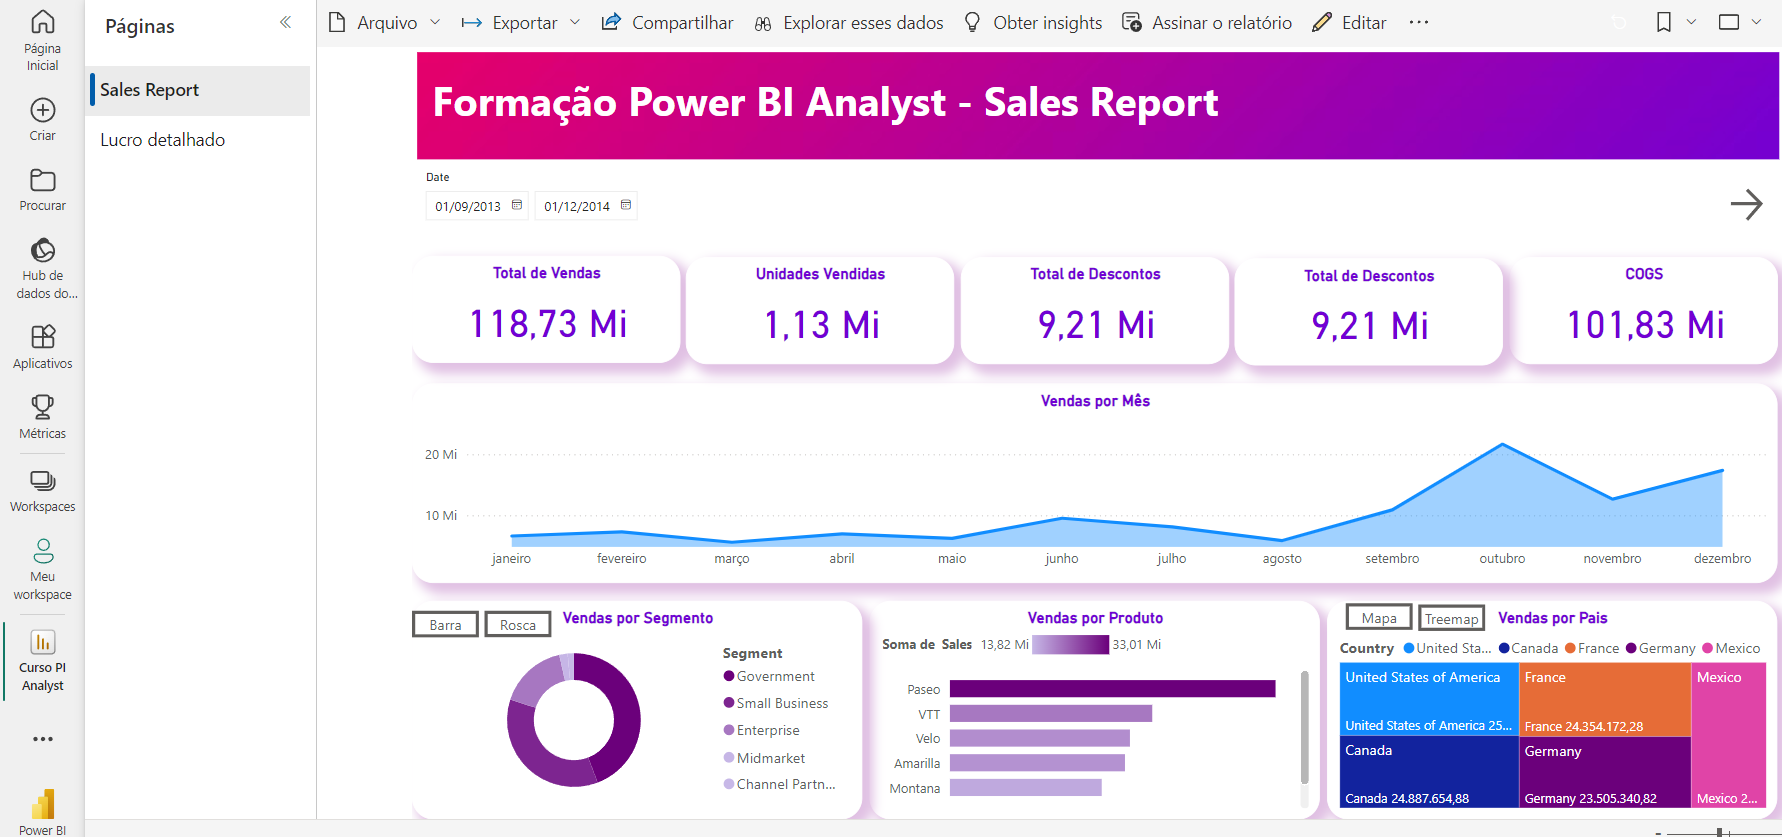

The dashboard page shown, as its layout file describes it:
{"tool":"powerbi","page":{"name":"Página 1","canvas":[1280,720],"ordinal":0},"visuals":[{"type":"group","id":"g1","title":"Titulo PrincipaL","box":[0,0,1280.3,109.8],"z":0},{"type":"group","id":"g2","title":"Grupo 2","box":[0,0,1280.3,109.8],"z":0,"group":"g1"},{"type":"image","box":[0,0,1280.2,109.5],"z":0,"group":"g2"},{"type":"card","title":"COGS","fields":{"Values":["Sum(financials.COGS)"]},"box":[1023.6,196.6,250,100.2],"z":0,"group":"g3"},{"type":"treemap","title":"Vendas por Pais","fields":{"Group":["financials.Country"],"Values":["Sum(financials. Sales)"],"Details":["financials.Country"]},"box":[853.8,516.2,420,203.8],"z":0,"group":"g5"},{"type":"textbox","box":[13.7,19.3,1037.8,63.8],"z":1000,"group":"g2"},{"type":"card","title":"Total de Vendas","fields":{"Values":["Sum(financials. Sales)"]},"box":[0,195.2,250,100.2],"z":1000,"group":"g3"},{"type":"areaChart","title":"Vendas por Mês","fields":{"Y":["Sum(financials. Sales)"],"Category":["financials.Date.Variation.Hierarquia de datas.Mês"]},"box":[0,313.2,1273.4,186.6],"z":1000},{"type":"donutChart","title":"Vendas por Segmento","fields":{"Category":["financials.Segment"],"Y":["Sum(financials. Sales)"]},"box":[0,516.2,420,203.8],"z":1000,"group":"g4"},{"type":"card","title":"Unidades Vendidas","fields":{"Values":["Sum(financials.Units Sold)"]},"box":[255.8,196.6,250,100.2],"z":2000,"group":"g3"},{"type":"clusteredBarChart","title":"Vendas por Produto","fields":{"Y":["Sum(financials. Sales)"],"Category":["financials.Product"]},"box":[426.9,516.2,420,203.8],"z":2000},{"type":"actionButton","title":"Mapa","box":[870.8,518.9,62.5,25],"z":2000,"group":"g5"},{"type":"slicer","fields":{"Values":["financials.Date"]},"box":[0,110,298.8,73.8],"z":3000},{"type":"card","title":"Total de Descontos","fields":{"Values":["Sum(financials.Discounts)"]},"box":[511.7,196.6,250,100.2],"z":3000,"group":"g3"},{"type":"actionButton","title":"treemap","box":[938.8,519.3,62.7,24.7],"z":3000,"group":"g5"},{"type":"group","id":"g3","title":"Cards primários","box":[0,195.2,1273.6,102.9],"z":4000},{"type":"card","title":"Total de Descontos","fields":{"Values":["Sum(financials.Discounts)"]},"box":[767.6,197.9,250,100.2],"z":4000,"group":"g3"},{"type":"group","id":"g4","title":"Vendas por Segmento","box":[0,516.2,420,203.8],"z":5000},{"type":"group","id":"g5","title":"Vendas por Pais","box":[853.8,516.2,426.2,203.8],"z":6000},{"type":"actionButton","title":"Proxima pagina","box":[1223.8,127.5,50,40],"z":7000},{"type":"actionButton","title":"Barra","box":[0,525,62.5,25],"z":8000,"group":"g4"},{"type":"actionButton","title":"Rosca","box":[68,525.3,62.7,24.7],"z":9000,"group":"g4"}]}

Visuals, with their boxes on the page's 1280x720 design canvas (x1, y1, x2, y2). These are canvas units, not pixel positions in the 1782x837 screenshot, which may show the page scaled, cropped or inside an application window:
"Titulo PrincipaL" group: rect(0, 0, 1280, 110)
"Grupo 2" group: rect(0, 0, 1280, 110)
image: rect(0, 0, 1280, 110)
"COGS" card: rect(1024, 197, 1274, 297)
"Vendas por Pais" treemap: rect(854, 516, 1274, 720)
textbox: rect(14, 19, 1052, 83)
"Total de Vendas" card: rect(0, 195, 250, 295)
"Vendas por Mês" areaChart: rect(0, 313, 1273, 500)
"Vendas por Segmento" donutChart: rect(0, 516, 420, 720)
"Unidades Vendidas" card: rect(256, 197, 506, 297)
"Vendas por Produto" clusteredBarChart: rect(427, 516, 847, 720)
"Mapa" actionButton: rect(871, 519, 933, 544)
slicer - financials.Date: rect(0, 110, 299, 184)
"Total de Descontos" card: rect(512, 197, 762, 297)
"treemap" actionButton: rect(939, 519, 1002, 544)
"Cards primários" group: rect(0, 195, 1274, 298)
"Total de Descontos" card: rect(768, 198, 1018, 298)
"Vendas por Segmento" group: rect(0, 516, 420, 720)
"Vendas por Pais" group: rect(854, 516, 1280, 720)
"Proxima pagina" actionButton: rect(1224, 128, 1274, 168)
"Barra" actionButton: rect(0, 525, 62, 550)
"Rosca" actionButton: rect(68, 525, 131, 550)
